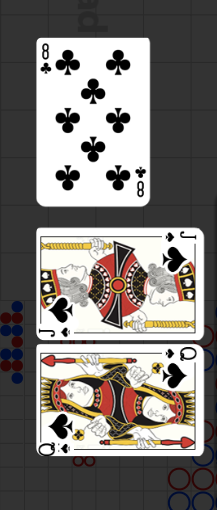8C: (133, 164, 147, 198), (40, 43, 53, 77)
9S: (36, 442, 73, 456)
JS: (38, 295, 85, 339), (159, 228, 205, 272)
